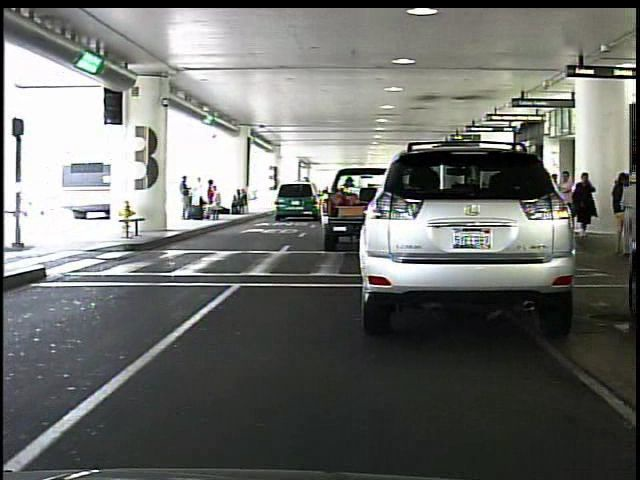person: (617, 172, 640, 260), (570, 168, 596, 239), (610, 166, 628, 259), (558, 169, 576, 237), (174, 172, 194, 224)
